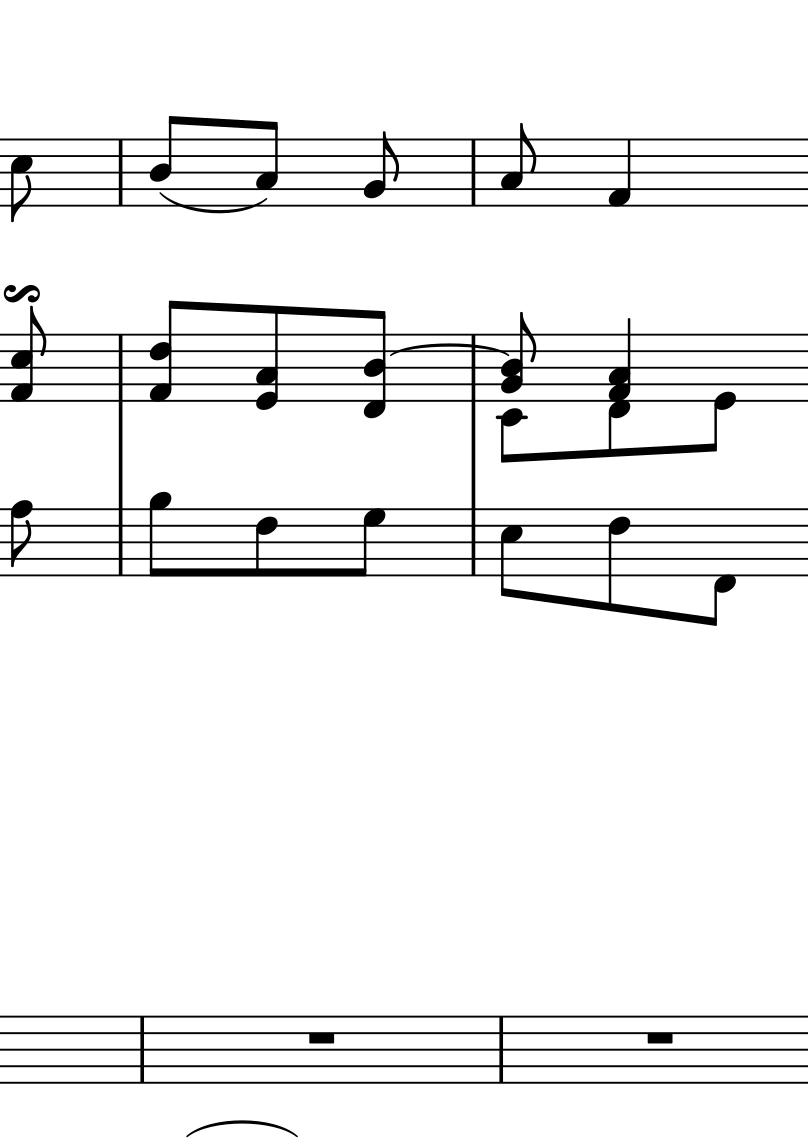4_1: (606, 137, 633, 210)
8_-1: (705, 505, 738, 627)
8_-1_4: (364, 309, 388, 418)
8_0_3: (253, 304, 282, 409)
8_1_5: (10, 306, 47, 404)
8_1_6: (150, 299, 187, 404)
8_2: (362, 130, 400, 208)
8_3: (500, 121, 538, 208), (254, 119, 279, 208)
8_4: (148, 114, 183, 206)
8_5: (498, 507, 524, 600), (9, 136, 35, 223)
8_6: (606, 505, 631, 615), (254, 506, 278, 578)
8_7: (354, 507, 386, 578)
8_8: (8, 499, 34, 578)
8_9: (148, 491, 171, 578)
Inverted_turn: (1, 278, 42, 306)
Rests1: (304, 1028, 340, 1048), (643, 1028, 678, 1048)
Single_barline: (111, 508, 131, 577), (465, 508, 484, 577), (111, 335, 130, 402), (493, 1016, 511, 1083), (465, 140, 483, 206), (466, 339, 484, 403), (113, 140, 130, 206), (134, 1017, 150, 1083)
Slur: (157, 190, 270, 215), (388, 342, 509, 358)
